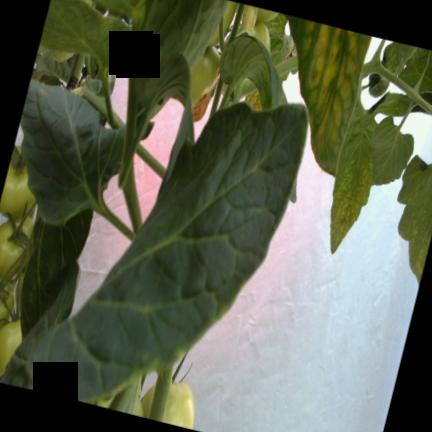tomato: (0, 145, 34, 218), (141, 382, 194, 428), (0, 216, 33, 278), (208, 0, 237, 46), (0, 318, 21, 374), (0, 282, 14, 326), (253, 22, 270, 51), (255, 8, 277, 23)
